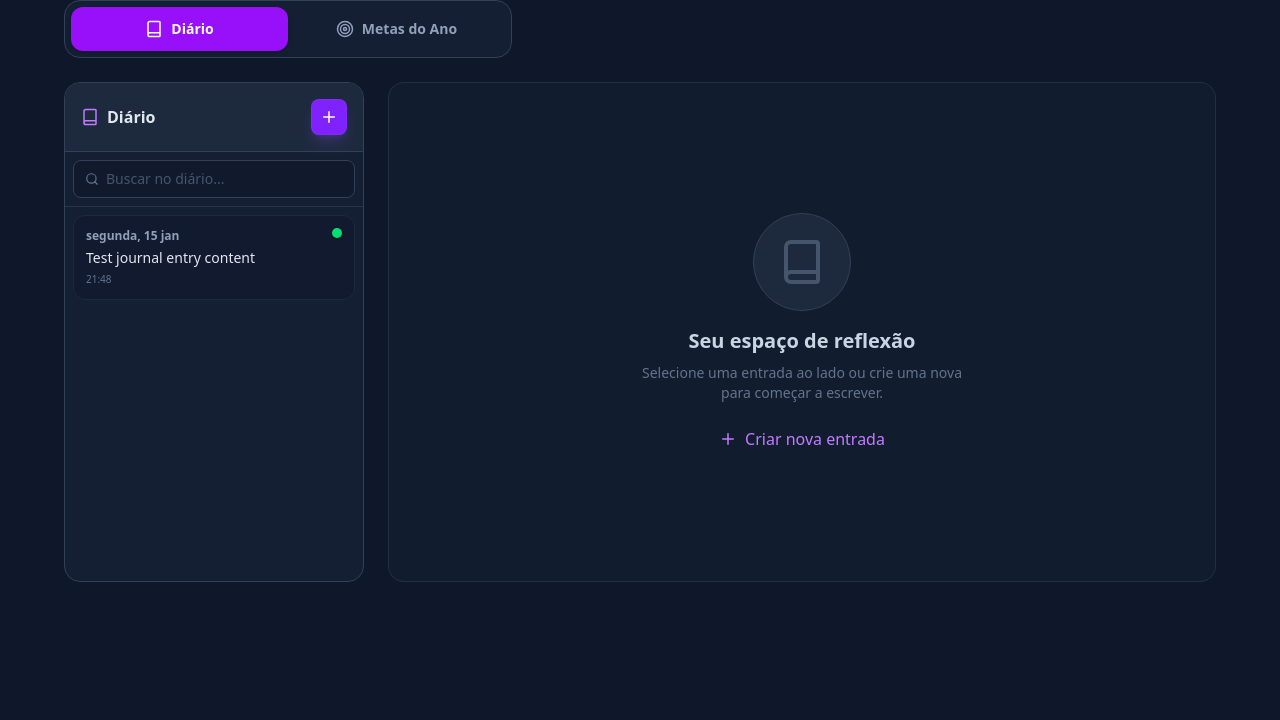
Scenario: JournalView › Entry Selection › shows entry content when entry is clicked
// Click on entry in sidebar
Click the text "Test journal entry content" at {"x": 170, "y": 258}, box [86,248,255,267]
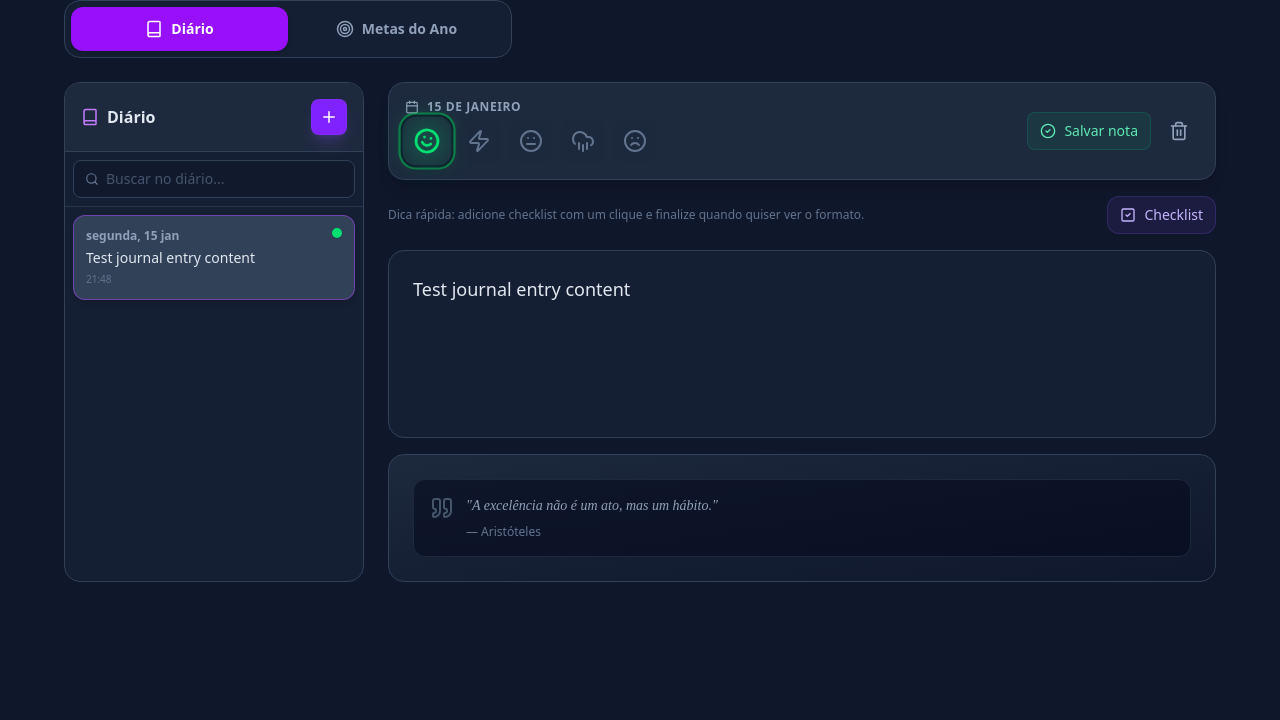
Expected: the text box showing "Test journal entry content" is shown, [388,250,1216,438]
